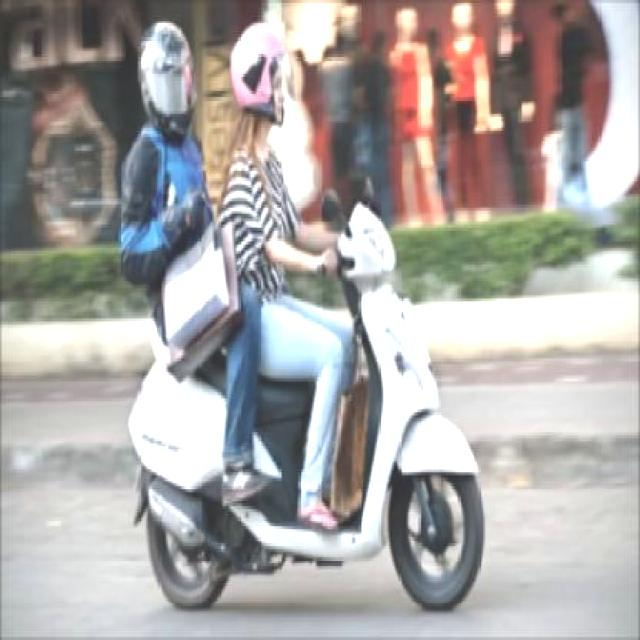With Helmet: (223, 20, 295, 134), (132, 18, 198, 139)
